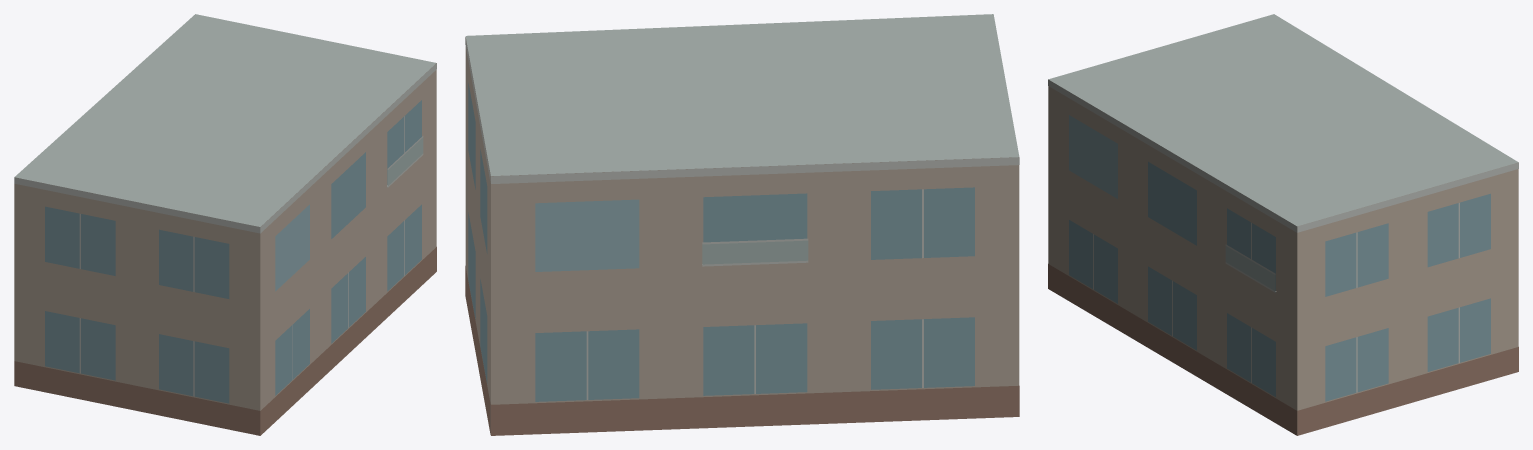
The model's file is survey-upis-32916480.glb.
3 views of the same model, side by side, from view 1: azimuth 30°, elevation 25°; view 2: azimuth 150°, elevation 25°; view 3: azimuth 270°, elevation 25° (orthographic). The views are drawn at different scales.
Parts seen in each view (by area): view 1: survey-upis-32916480.tmp; view 2: survey-upis-32916480.tmp; view 3: survey-upis-32916480.tmp.
Part boxes in pixels (x1,y1,x2,y2): survey-upis-32916480.tmp: (14, 14, 436, 435); survey-upis-32916480.tmp: (465, 14, 1019, 435); survey-upis-32916480.tmp: (1048, 14, 1518, 435).
Bounding box in the file's own units: 17.19 × 7.9 × 16.1.
